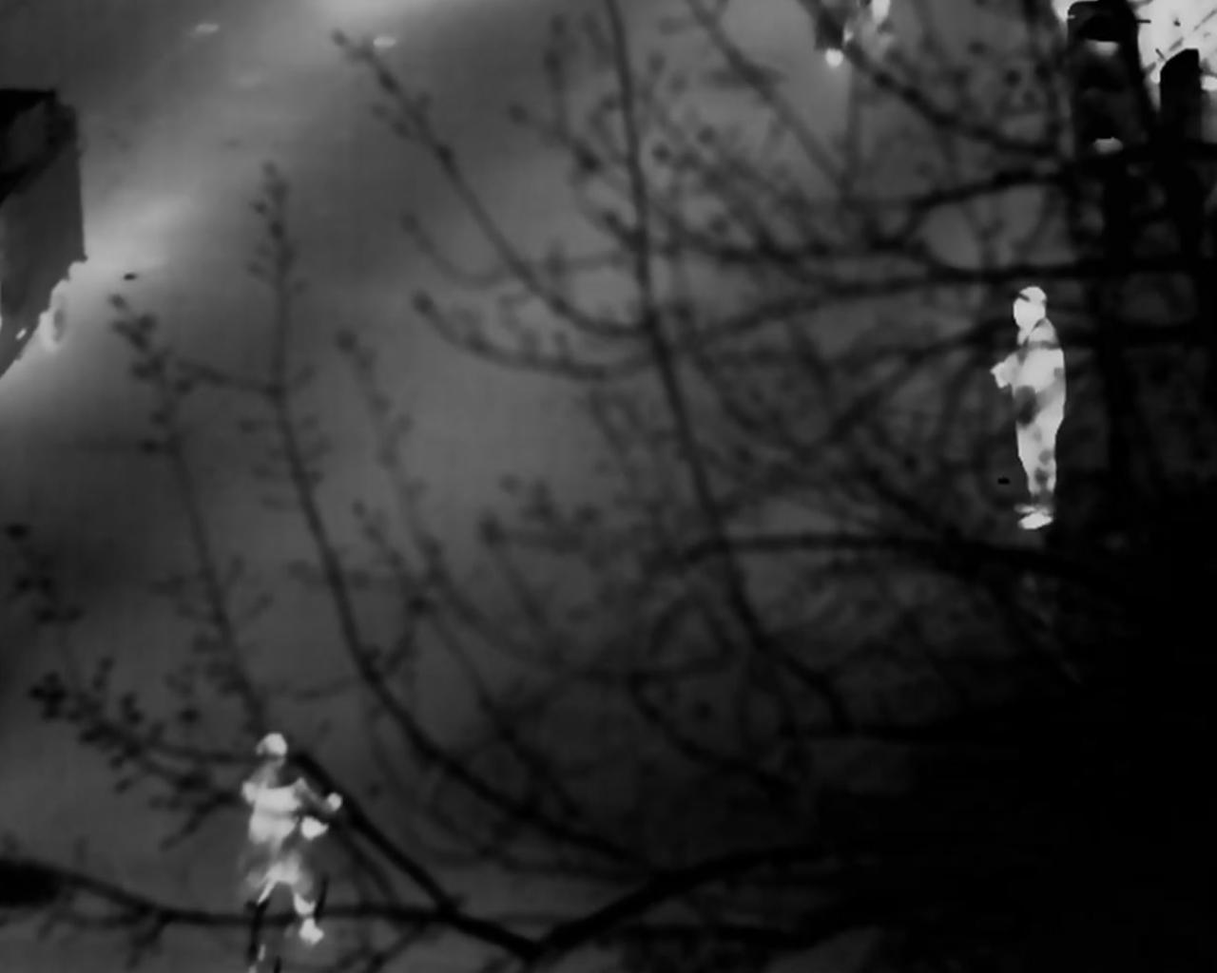person: (996, 279, 1078, 536), (240, 731, 337, 940)
